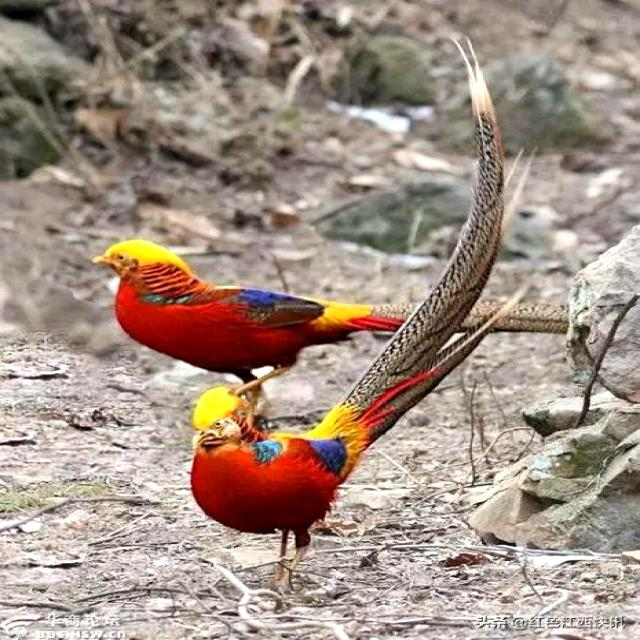Chrysolophus pictus feather: (339, 36, 524, 443)
